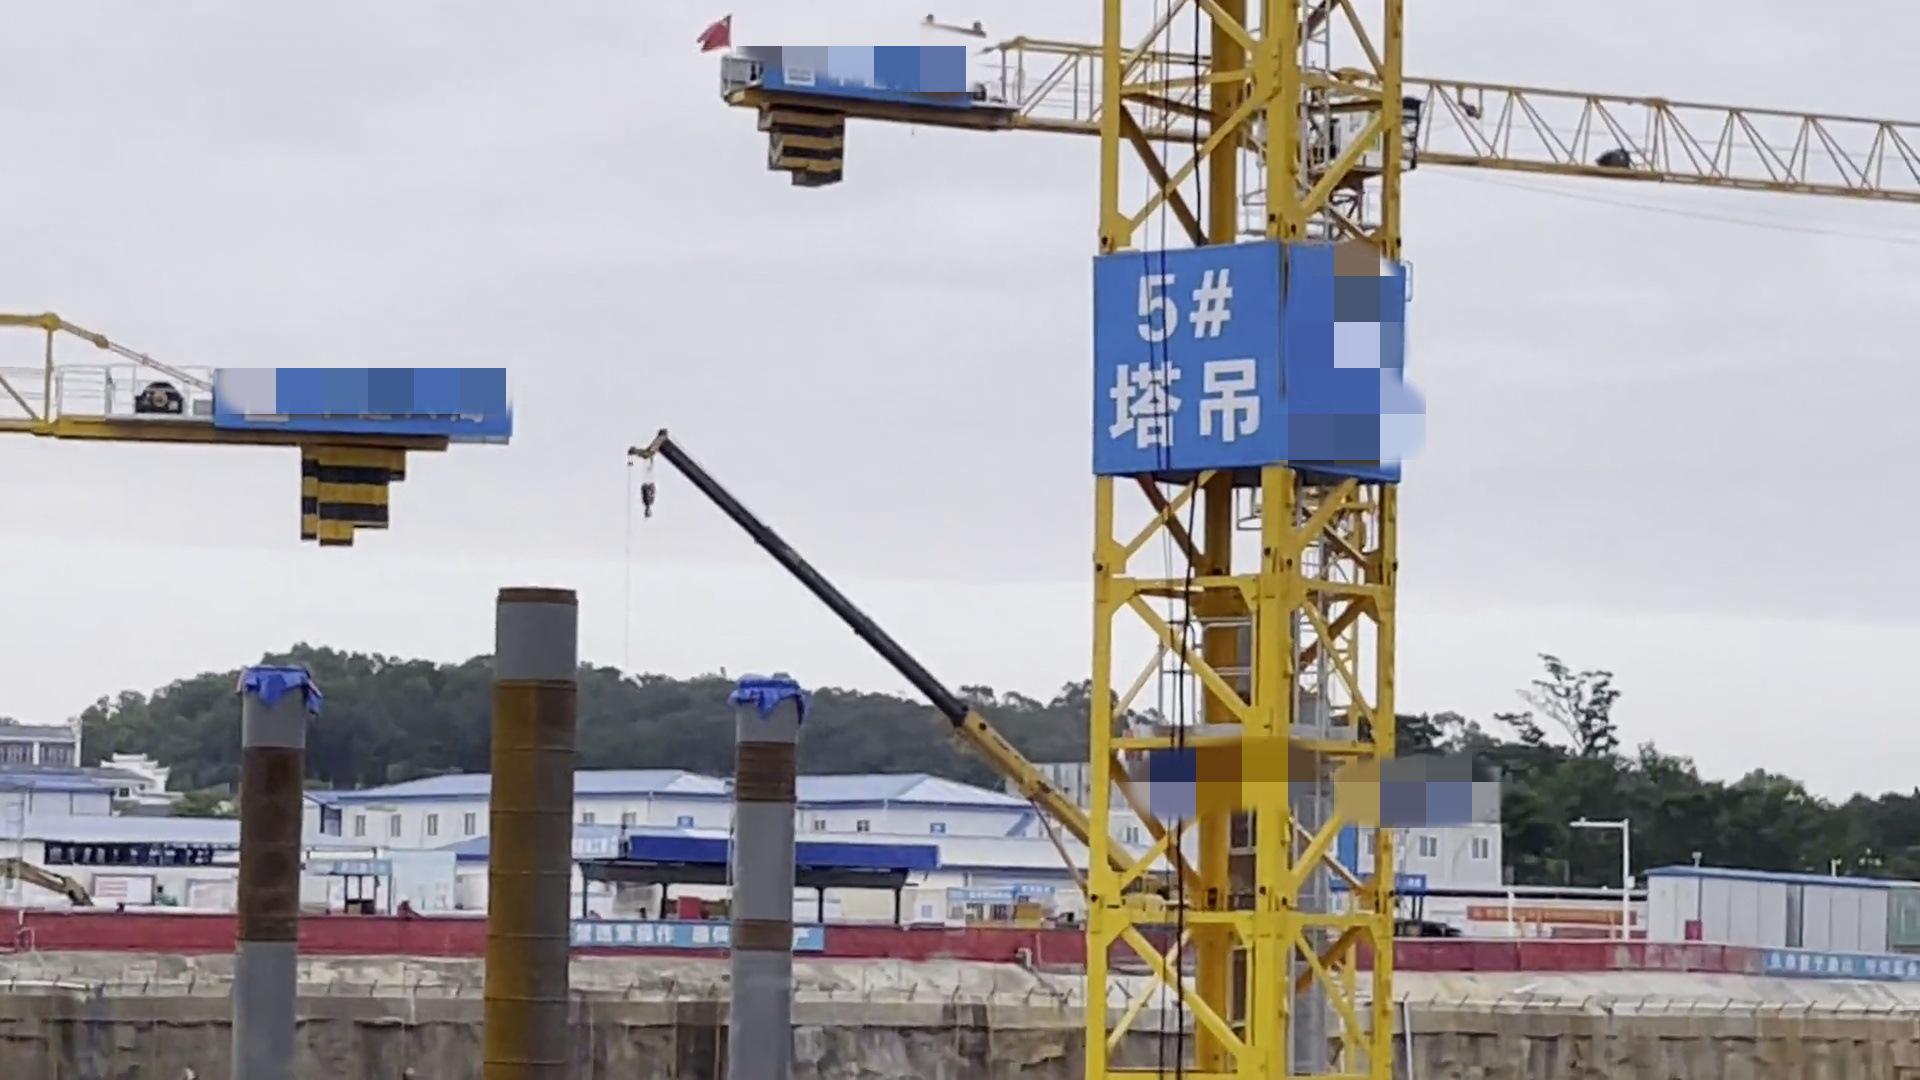fence: (570, 906, 1087, 972), (1402, 928, 1920, 990), (3, 903, 243, 964), (295, 901, 496, 971)
hook: (629, 436, 694, 524)
slogan: (1091, 229, 1410, 484), (218, 364, 520, 462), (754, 36, 982, 123), (578, 918, 839, 961), (1767, 939, 1920, 985), (563, 829, 629, 861)
